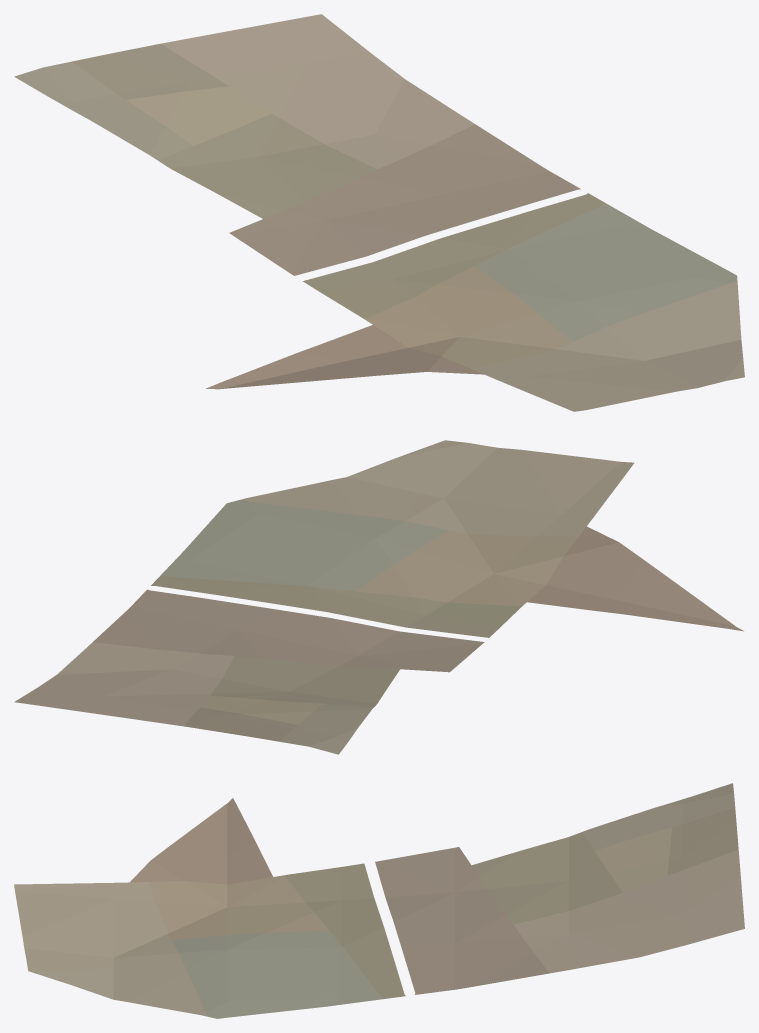
The model's file is farm_-28_-28_soil.glb.
3 renders of one model, top to bottom at view 1: azimuth 30°, elevation 25°; view 2: azimuth 150°, elevation 25°; view 3: azimuth 270°, elevation 25°, orthographic. The views are drawn at different scales.
Parts seen in each view (by area): view 1: geometry_0; view 2: geometry_0; view 3: geometry_0.
Part boxes in pixels (x1,y1,x2,y2): geometry_0: [14, 14, 744, 411]; geometry_0: [14, 440, 743, 754]; geometry_0: [14, 783, 744, 1018].
Bounding box in the file's own units: 358 × 54.31 × 514.
